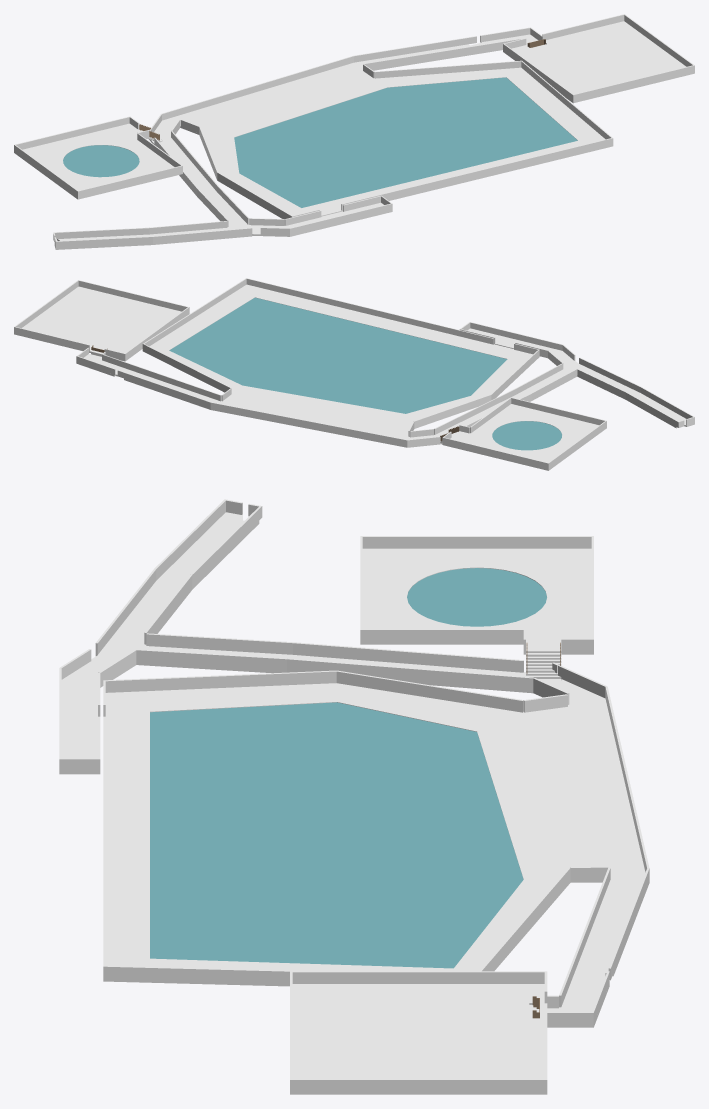
The picture shows the model from 3 angles, top to bottom: view 1: azimuth 30°, elevation 25°; view 2: azimuth 150°, elevation 25°; view 3: azimuth 270°, elevation 25°; orthographic projection. The views are drawn at different scales.
Parts seen in each view (by area): view 1: summit_floor_stone_floor, summit_water_w_caldera, summit_wall_basalt, summit_water_w_spring; view 2: summit_floor_stone_floor, summit_water_w_caldera, summit_wall_basalt, summit_water_w_spring; view 3: summit_floor_stone_floor, summit_water_w_caldera, summit_wall_basalt, summit_water_w_spring, summit_stair_wood.
Part boxes in pixels (bbox=[...]): summit_floor_stone_floor: bbox=[14, 21, 694, 249]; summit_water_w_caldera: bbox=[234, 77, 577, 207]; summit_wall_basalt: bbox=[14, 14, 694, 248]; summit_water_w_spring: bbox=[63, 145, 139, 177]; summit_floor_stone_floor: bbox=[14, 284, 694, 470]; summit_water_w_caldera: bbox=[169, 297, 507, 413]; summit_wall_basalt: bbox=[14, 278, 694, 469]; summit_water_w_spring: bbox=[492, 421, 561, 450]; summit_floor_stone_floor: bbox=[59, 512, 649, 1094]; summit_water_w_caldera: bbox=[150, 702, 523, 968]; summit_wall_basalt: bbox=[59, 499, 649, 1091]; summit_water_w_spring: bbox=[407, 568, 546, 626]; summit_stair_wood: bbox=[526, 653, 561, 1018].
Size of the model in its own units: 119 by 4.05 by 50.52.
